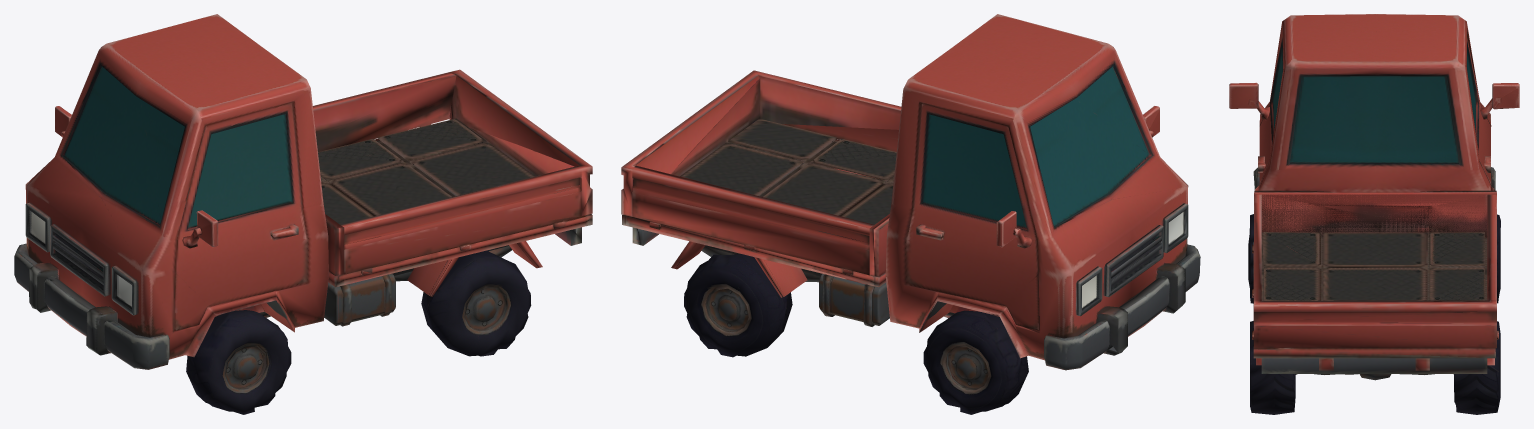
The model's file is PickupTruck.glb.
The picture shows the model from 3 angles, left to right: view 1: azimuth 30°, elevation 25°; view 2: azimuth 150°, elevation 25°; view 3: azimuth 270°, elevation 25°; orthographic projection. The views are drawn at different scales.
Size of the model in its own units: 0.9565 by 0.5947 by 0.5649.
1 material, 1 textured.
